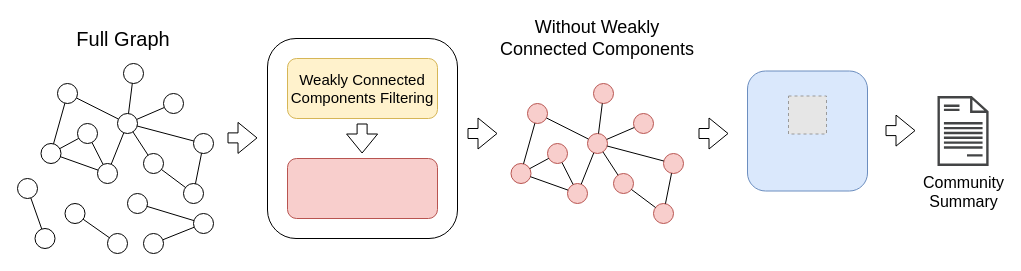
Some shapes in this 1021 by 271 pixel diagram are drawn without their labels. Grey dashed boxes stand in for pictures. Here are the shapes that lost their labels. From the top down, the box of each, then its label:
(746, 70, 868, 191): DeepSeek V3 671B 32K
(286, 158, 438, 218): Leiden Algorithm
